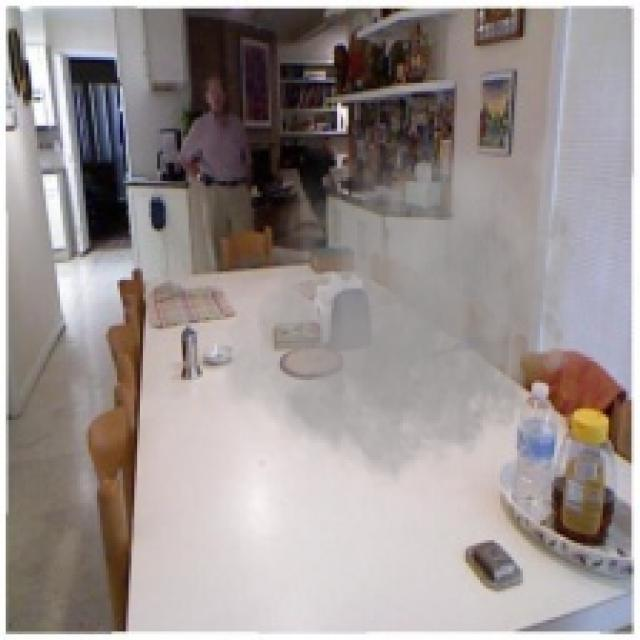Smoke: (208, 111, 598, 503)
